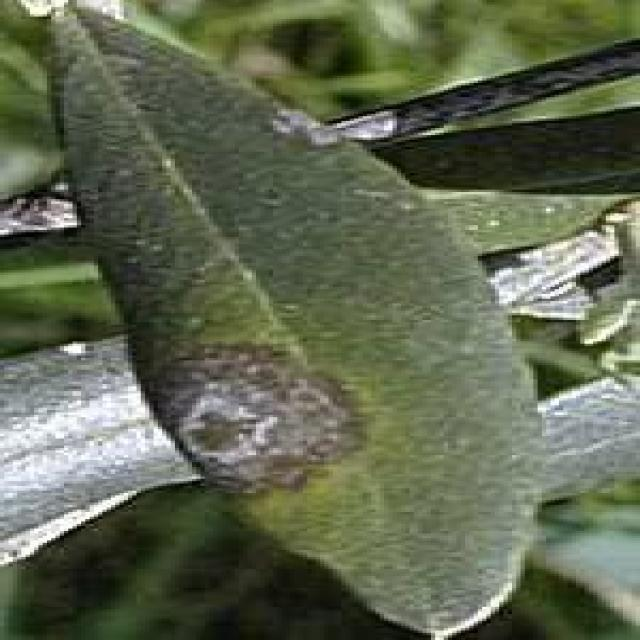OlivePeacockSpot: (56, 17, 542, 636)
